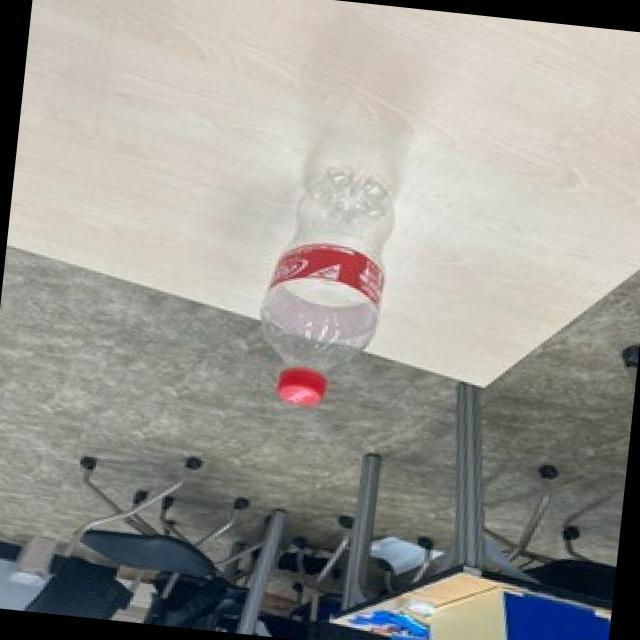good: (248, 154, 404, 420)
